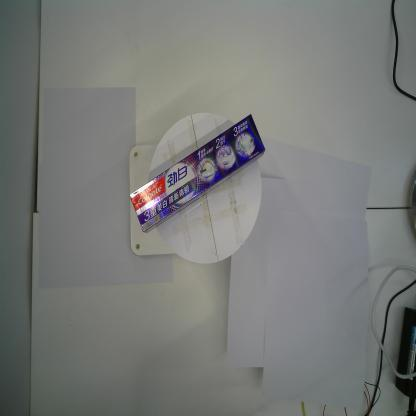Personal Hygiene: (129, 113, 265, 233)
